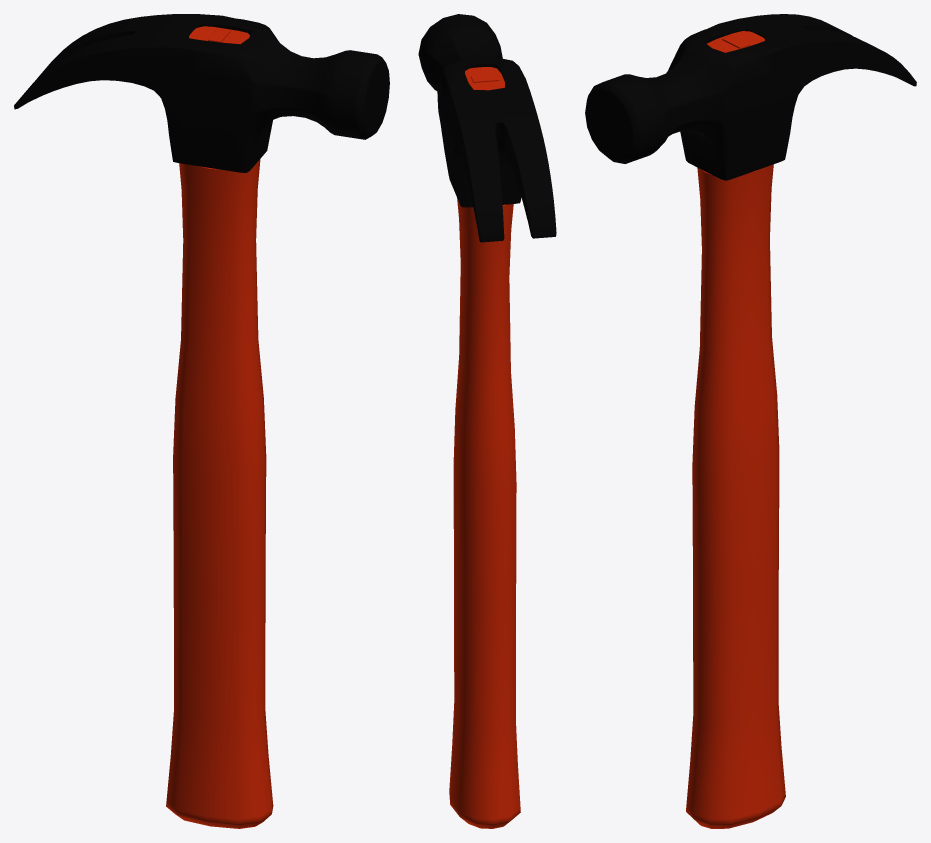
The picture shows the model from 3 angles, left to right: view 1: azimuth 30°, elevation 25°; view 2: azimuth 150°, elevation 25°; view 3: azimuth 270°, elevation 25°; orthographic projection. The views are drawn at different scales.
Parts seen in each view (by area): view 1: Handle, Hammer_Head; view 2: Handle, Hammer_Head; view 3: Handle, Hammer_Head.
Boxes of the visible parts, box(x1,y1,x2,y2) form: Handle: box(166, 26, 273, 828); Hammer_Head: box(14, 14, 389, 172); Handle: box(449, 67, 520, 828); Hammer_Head: box(418, 14, 556, 242); Handle: box(686, 31, 785, 828); Hammer_Head: box(585, 14, 916, 180).
Bounding box in the file's own units: 22.98 × 25.7 × 66.12.
